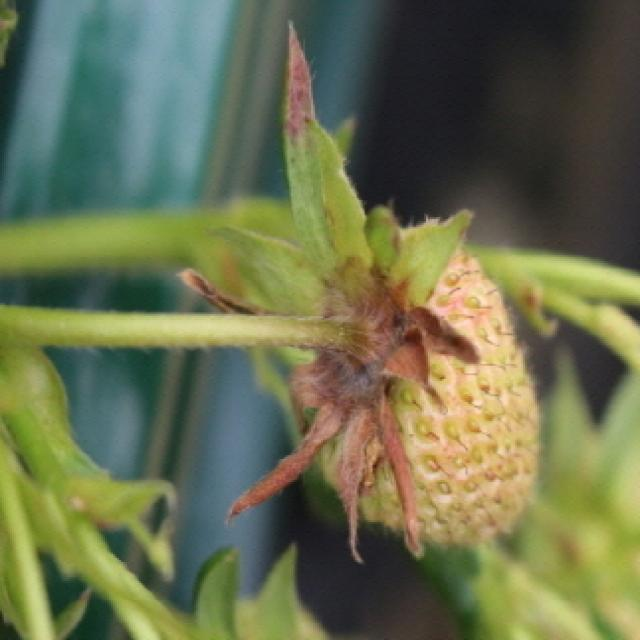Gray Mold: (177, 255, 483, 563)
